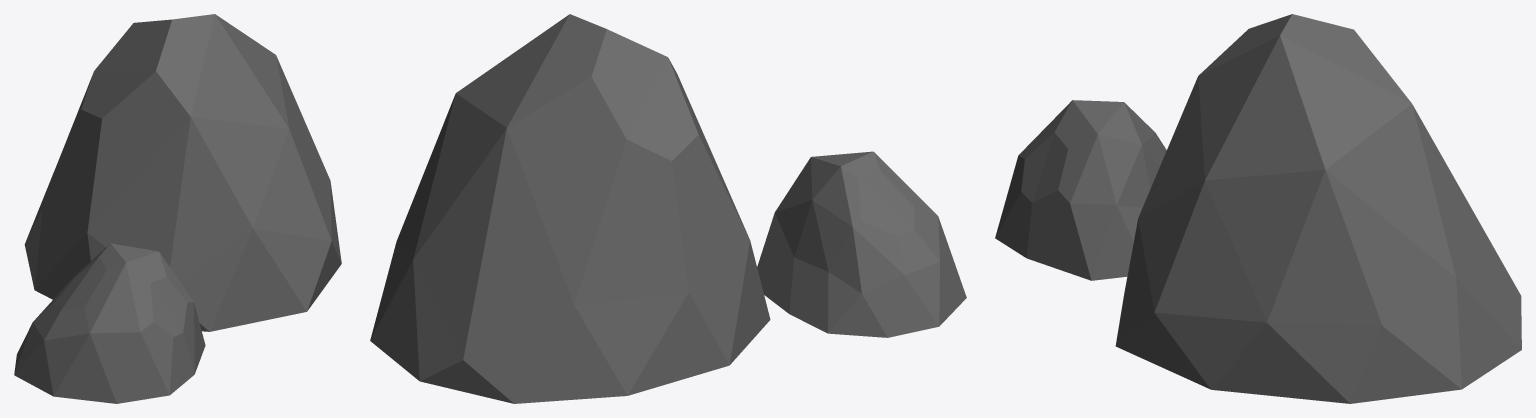
Rendered from ForestStone(2).fbx.
3 views of the same model, side by side, from view 1: azimuth 30°, elevation 25°; view 2: azimuth 150°, elevation 25°; view 3: azimuth 270°, elevation 25° (orthographic). The views are drawn at different scales.
Parts seen in each view (by area): view 1: Stone(2); view 2: Stone(2); view 3: Stone(2).
Boxes of the visible parts, x1=… form: Stone(2): x1=14, y1=14, x2=341, y2=403; Stone(2): x1=370, y1=14, x2=966, y2=403; Stone(2): x1=995, y1=14, x2=1521, y2=403.
Bounding box in the file's own units: 1.61 × 1.02 × 1.62.
